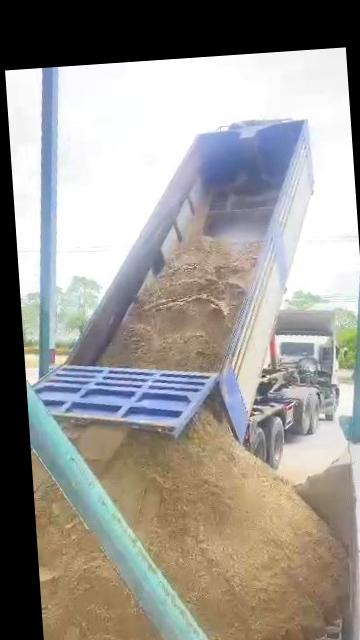sand: (66, 407, 346, 640), (34, 477, 175, 640), (103, 240, 259, 370), (295, 455, 355, 559), (61, 421, 128, 461), (31, 450, 49, 494)
